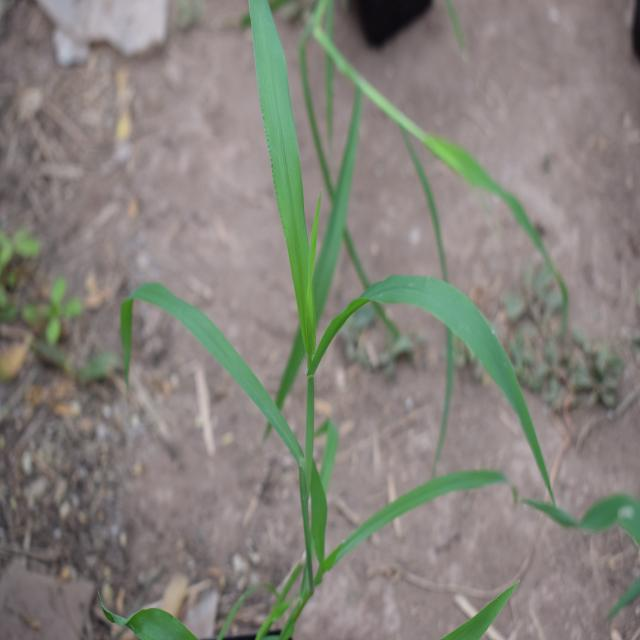crabgrass: (120, 9, 524, 530)
